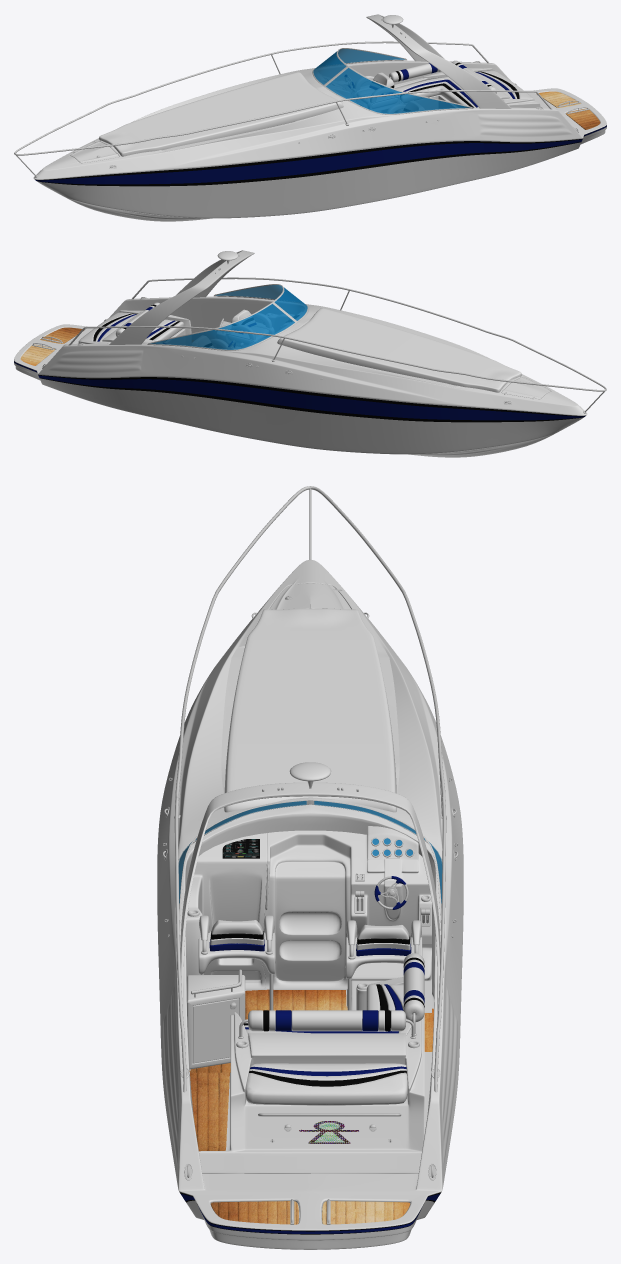
File: motorboat-cruiser.glb
The picture shows the model from 3 angles, top to bottom: view 1: azimuth 30°, elevation 25°; view 2: azimuth 150°, elevation 25°; view 3: azimuth 270°, elevation 25°; orthographic projection. The views are drawn at different scales.
Visible parts, largest first — view 1: Object_9, Object_4, Object_12, Object_23, Object_24, Object_11, Object_16, Object_8, Object_19, Object_15, Object_2, Object_6; view 2: Object_9, Object_4, Object_12, Object_23, Object_24, Object_16, Object_11, Object_19, Object_15, Object_8, Object_6, Object_2; view 3: Object_9, Object_6, Object_4, Object_8, Object_11, Object_15, Object_16, Object_12, Object_21, Object_24, Object_2, Object_19 (+1 smaller).
Part boxes in pixels (box(x1,y1,x2,y2)): Object_9: box(33, 14, 606, 221); Object_4: box(99, 72, 343, 156); Object_12: box(35, 63, 606, 184); Object_23: box(313, 49, 470, 113); Object_24: box(35, 62, 606, 186); Object_11: box(353, 60, 534, 112); Object_16: box(14, 41, 552, 155); Object_8: box(382, 68, 540, 112); Object_19: box(312, 48, 473, 114); Object_15: box(537, 91, 600, 129); Object_2: box(108, 76, 323, 156); Object_6: box(109, 15, 578, 168); Object_9: box(14, 250, 587, 457); Object_4: box(277, 308, 521, 392); Object_12: box(14, 307, 585, 420); Object_23: box(150, 285, 307, 349); Object_24: box(14, 304, 585, 422); Object_16: box(68, 277, 606, 391); Object_11: box(78, 302, 273, 348); Object_19: box(147, 284, 308, 350); Object_15: box(20, 327, 193, 365); Object_8: box(77, 310, 191, 344); Object_6: box(42, 251, 511, 404); Object_2: box(293, 318, 514, 390); Object_9: box(157, 559, 463, 1249); Object_6: box(164, 614, 456, 1179); Object_4: box(224, 608, 396, 812); Object_8: box(199, 977, 424, 1173); Object_11: box(198, 915, 424, 1105); Object_15: box(189, 989, 433, 1224); Object_16: box(174, 486, 446, 1092); Object_12: box(180, 876, 440, 1233); Object_21: box(162, 589, 458, 1224); Object_24: box(179, 931, 441, 1234); Object_2: box(221, 646, 399, 811); Object_19: box(176, 799, 444, 1010).
Size of the model in its own units: 10162 by 2701 by 2343.
10 materials, 3 textured.
